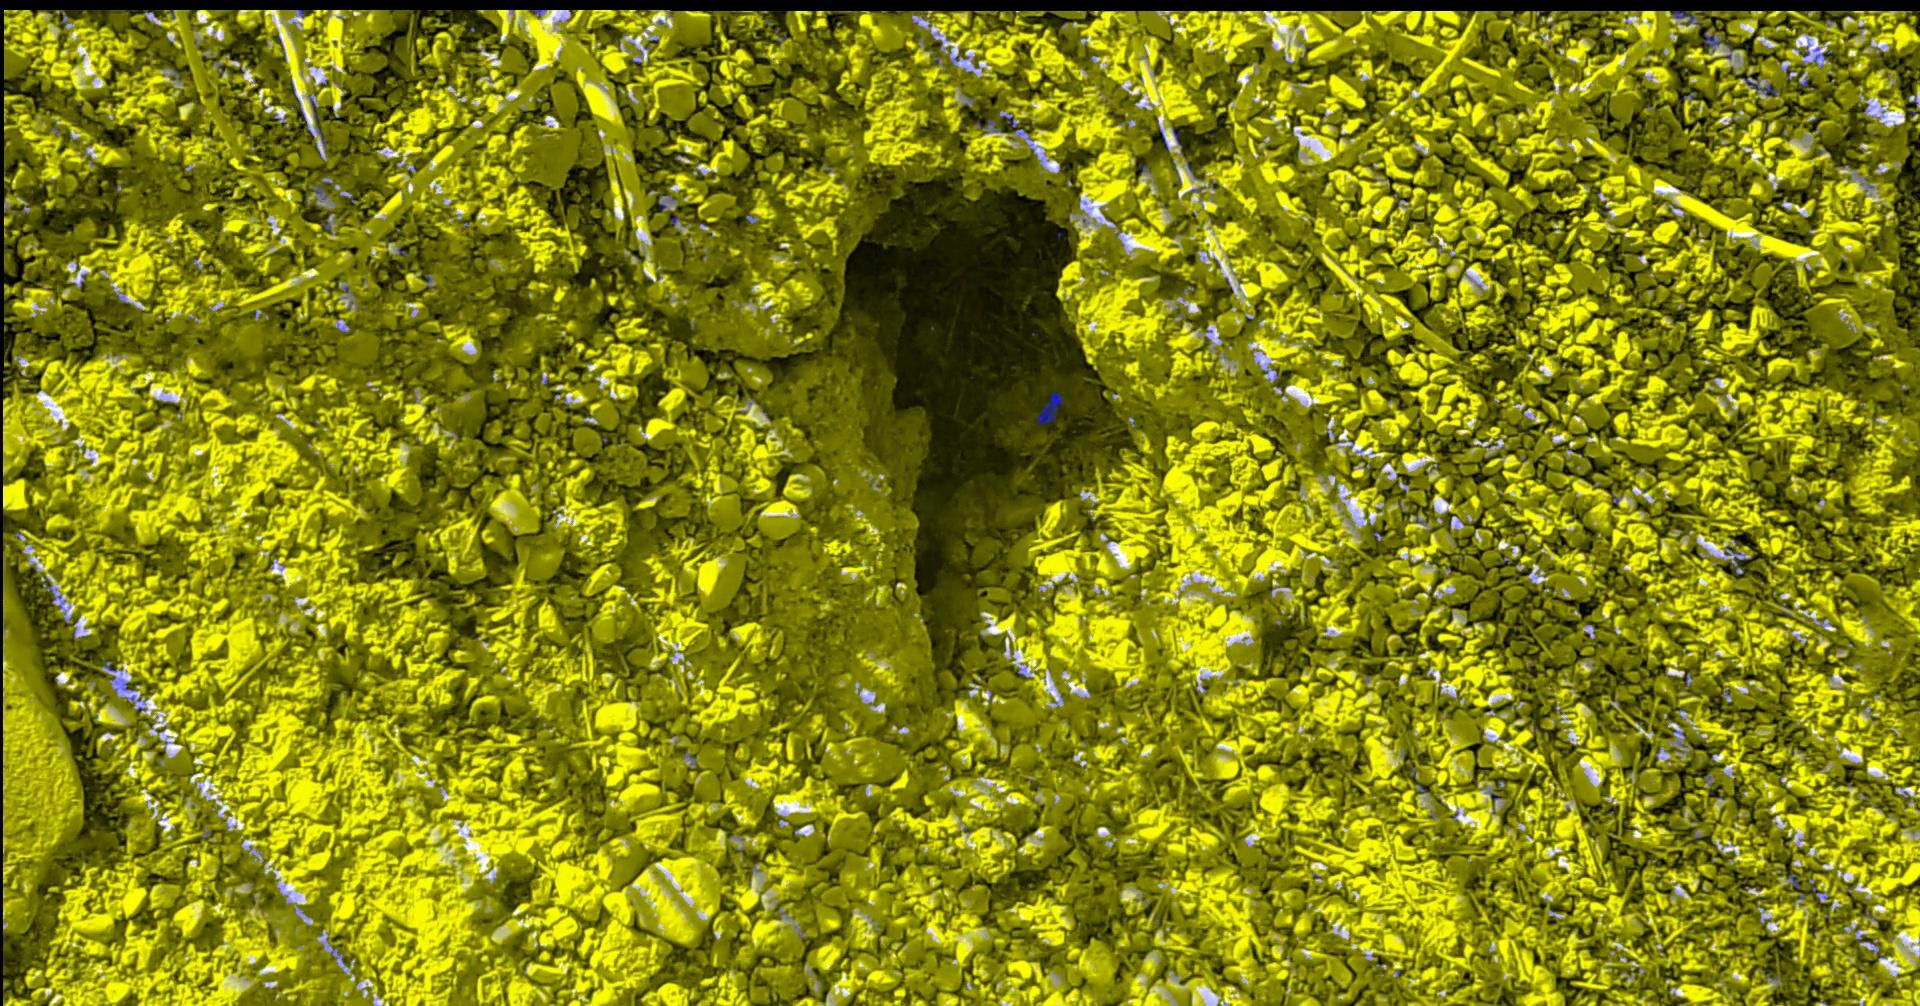ant: (1702, 29, 1732, 58), (1741, 72, 1777, 97), (310, 97, 326, 147), (1036, 392, 1063, 423), (1001, 113, 1027, 133), (1723, 547, 1743, 574), (41, 578, 60, 605), (1671, 10, 1702, 27), (975, 118, 1002, 132), (311, 184, 328, 199)
